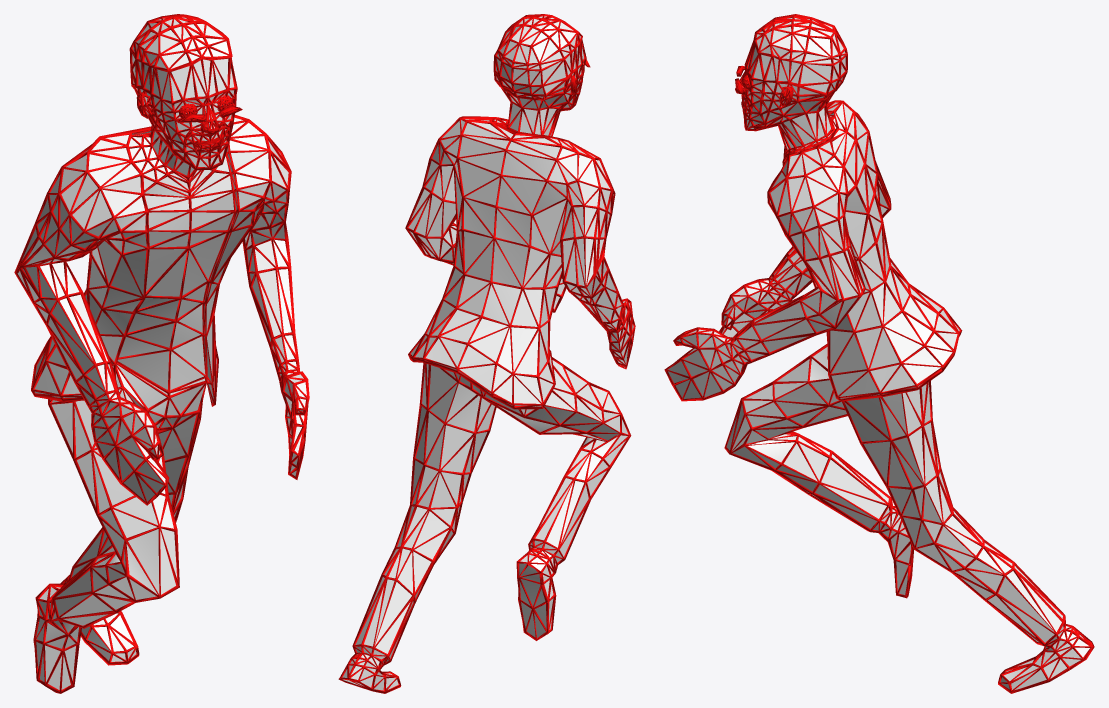
File: elegantRun_000005.obj
3 renders of one model, left to right at view 1: azimuth 30°, elevation 25°; view 2: azimuth 150°, elevation 25°; view 3: azimuth 270°, elevation 25°, orthographic. The views are drawn at different scales.
Parts seen in each view (by area): view 1: BaseHuman_Cylinder.002; view 2: BaseHuman_Cylinder.002; view 3: BaseHuman_Cylinder.002.
Boxes of the visible parts, left/top/right/bottom form: BaseHuman_Cylinder.002: left=14, top=14, right=309, bottom=693; BaseHuman_Cylinder.002: left=338, top=14, right=635, bottom=693; BaseHuman_Cylinder.002: left=664, top=14, right=1094, bottom=693.
Bounding box in the file's own units: 1.55 × 4.52 × 2.75.
